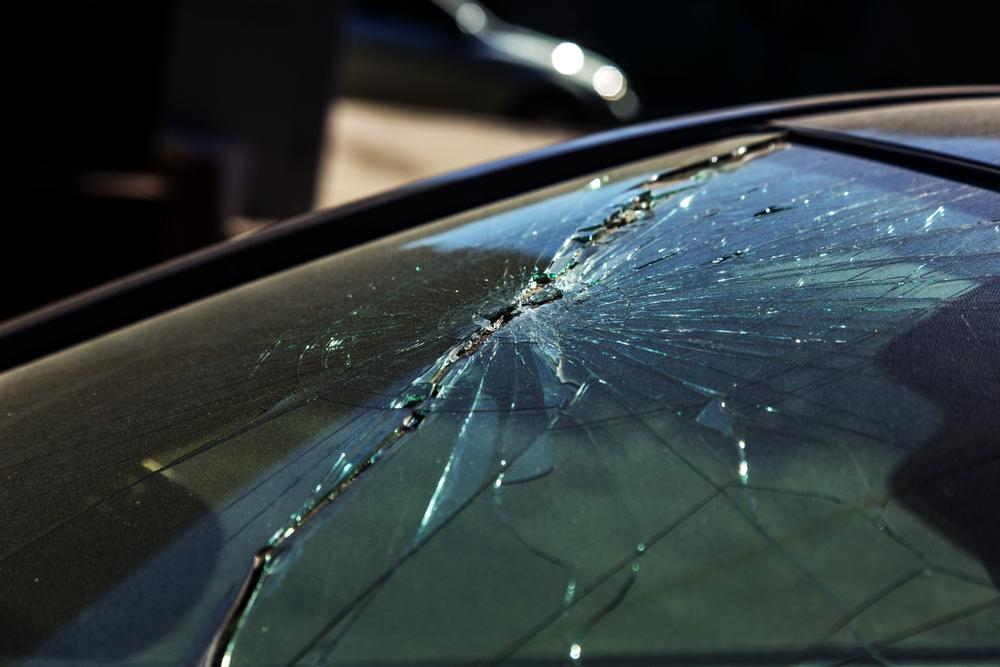glass shatter: (0, 131, 1000, 667)
